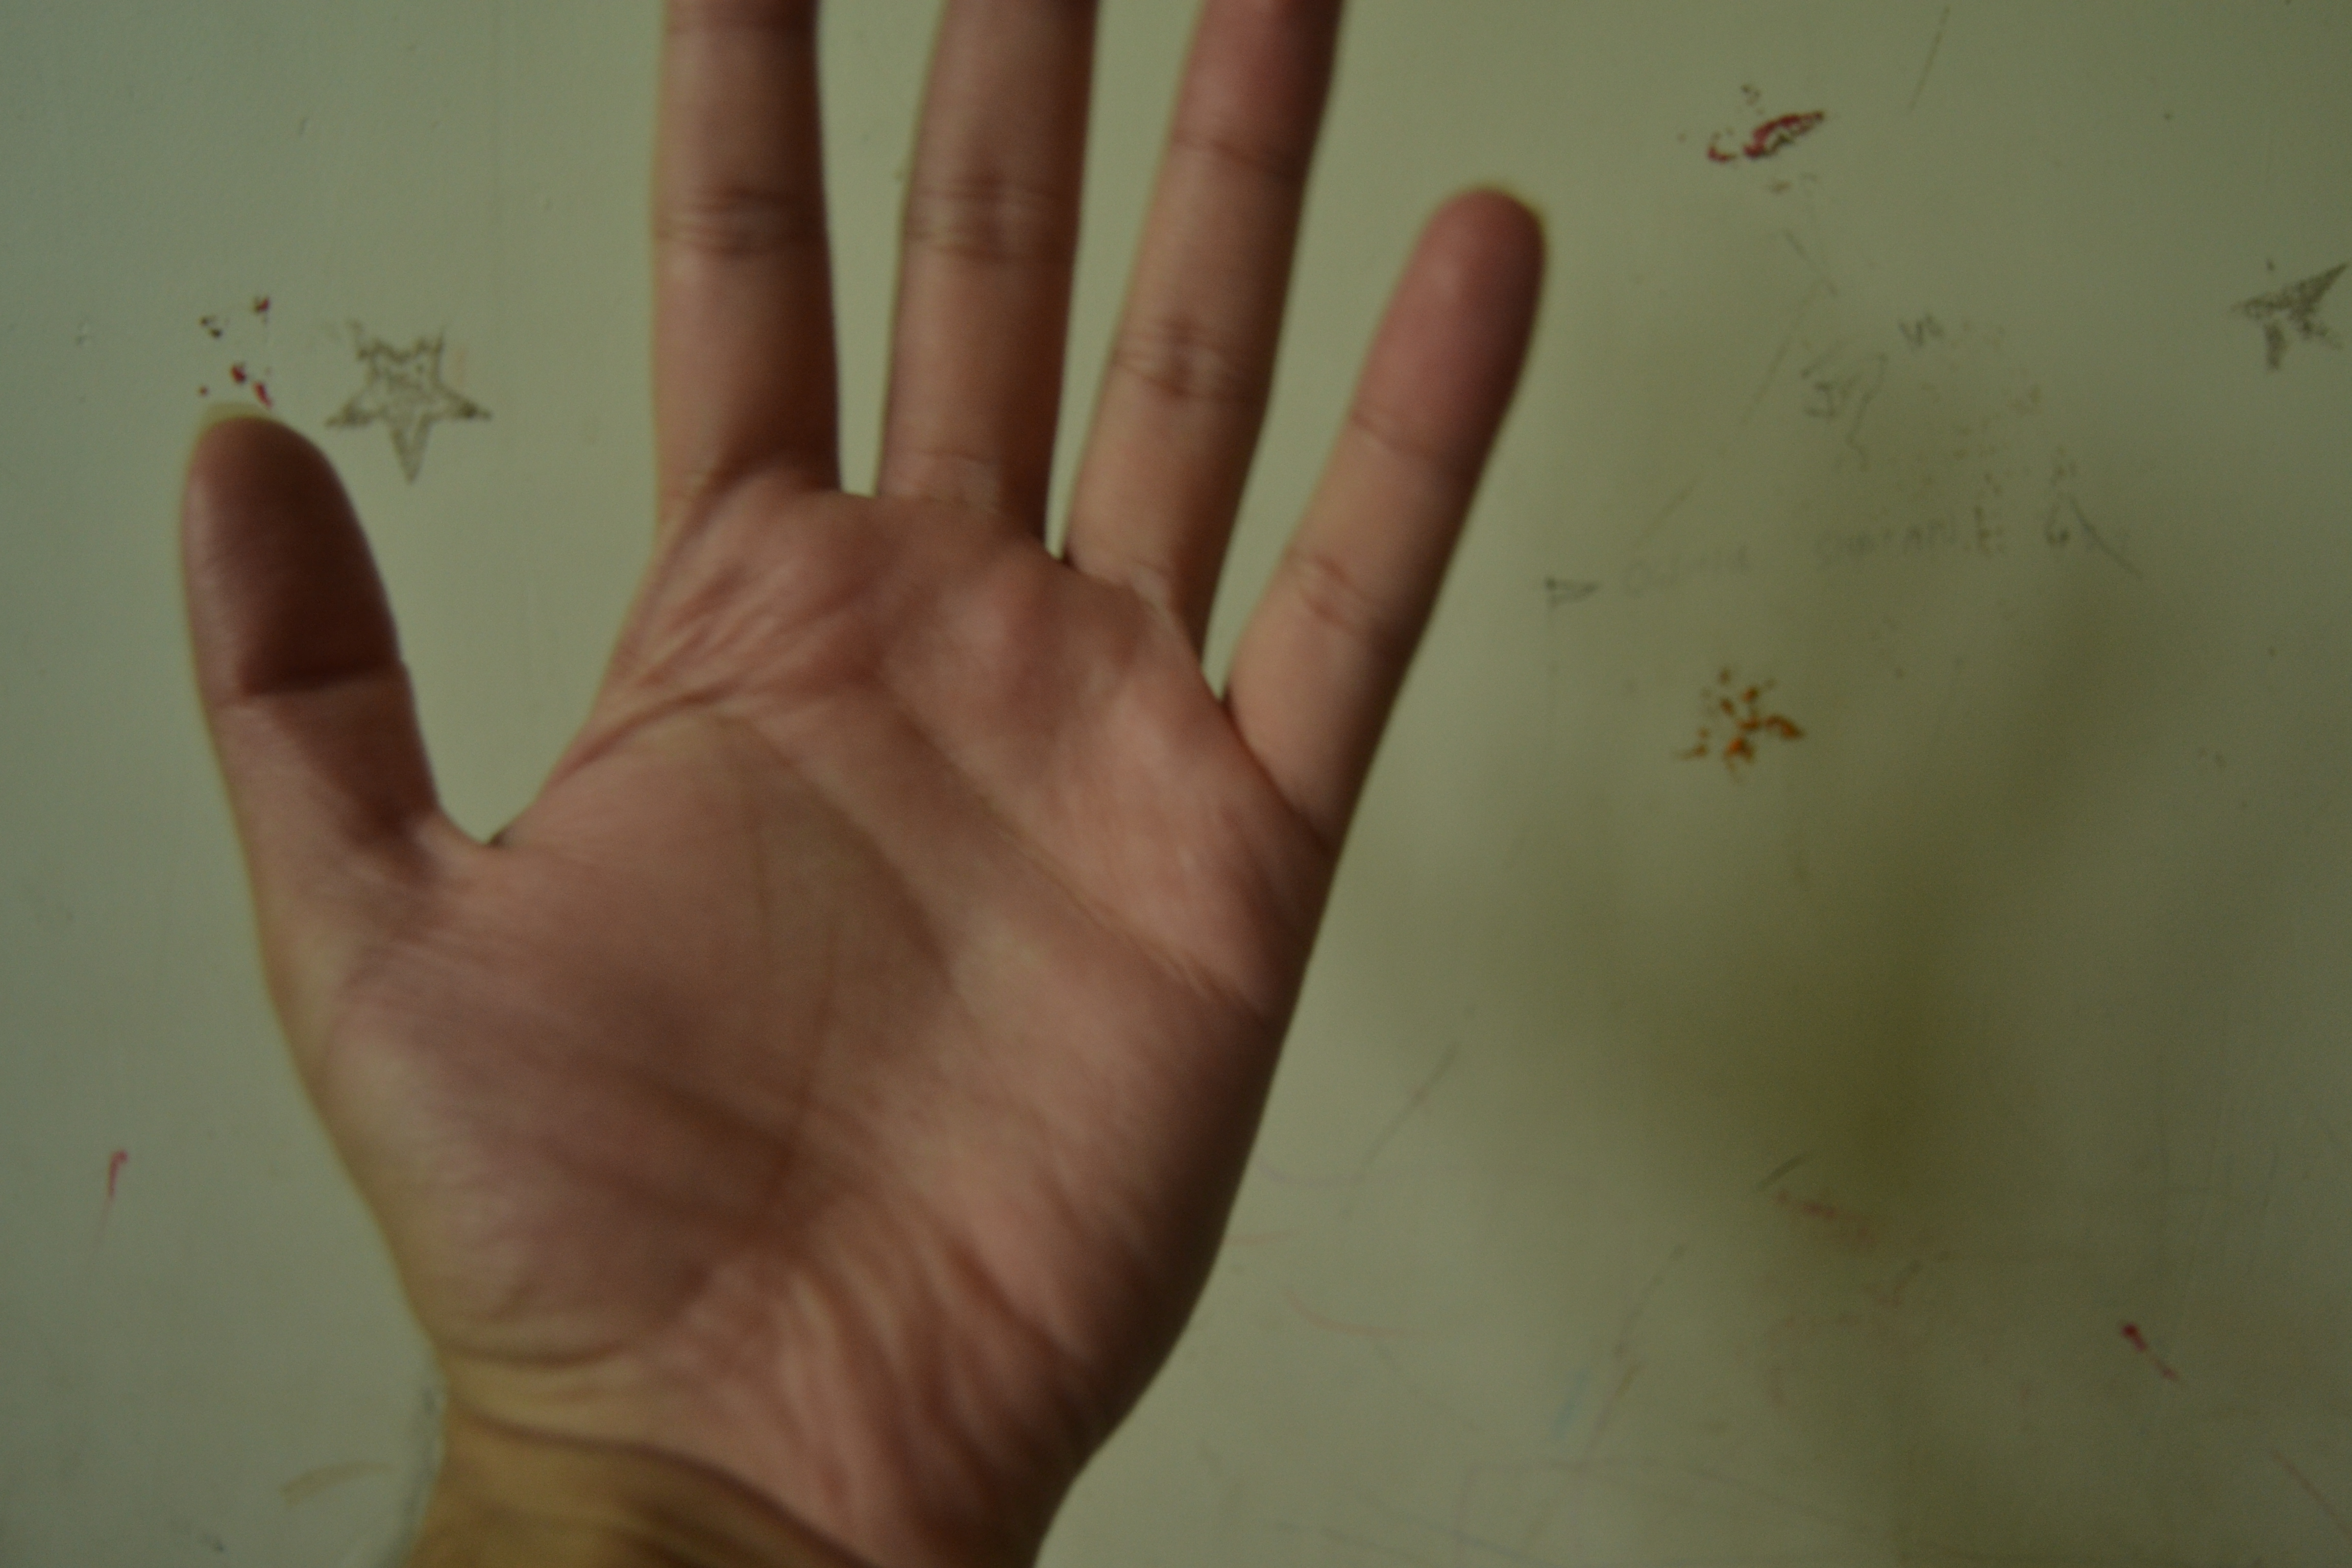move: (108, 21, 1568, 1480)
